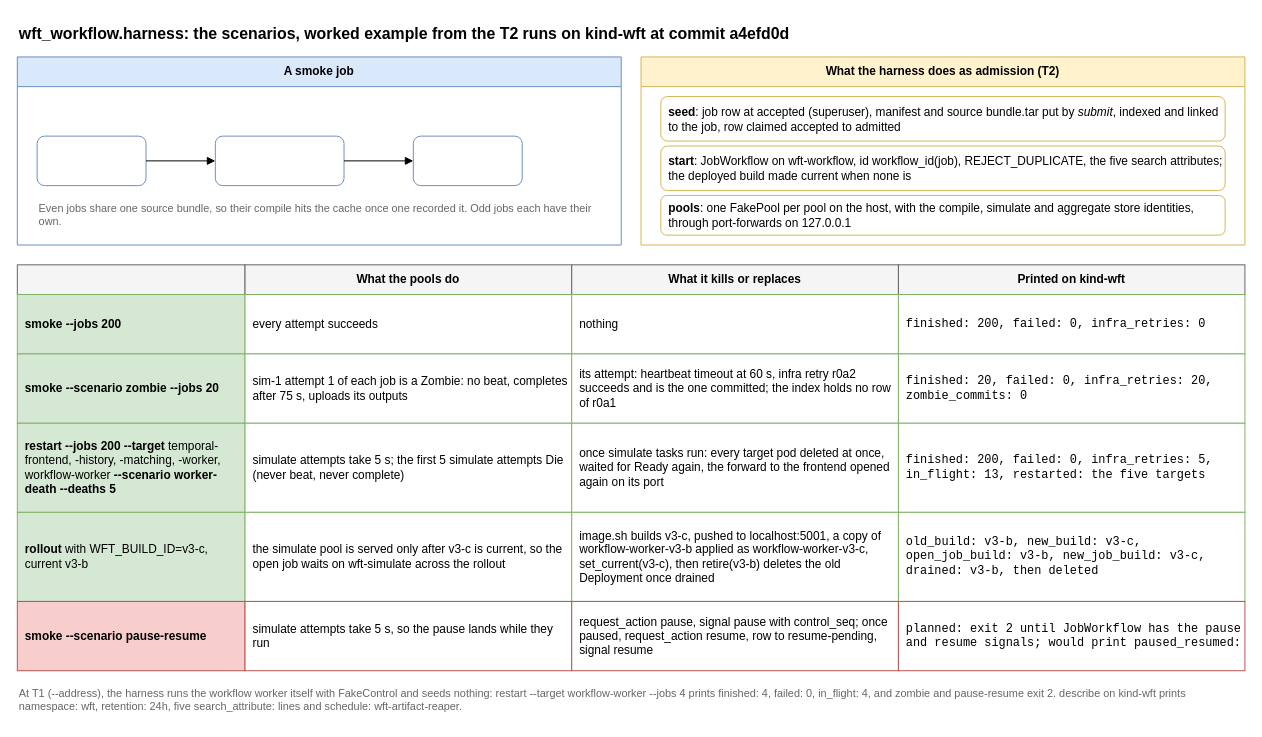
The diagram is 1262 pixels wide and 737 high, and some of its shapes have lost their labels. The centre of each missing label's shape, as x and y in pixels:
agg aggregate: the point at 467,160
build compile: the point at 91,160
Scenario: the point at 130,279
sim-1 .. sim-4 simulate: the point at 279,160
